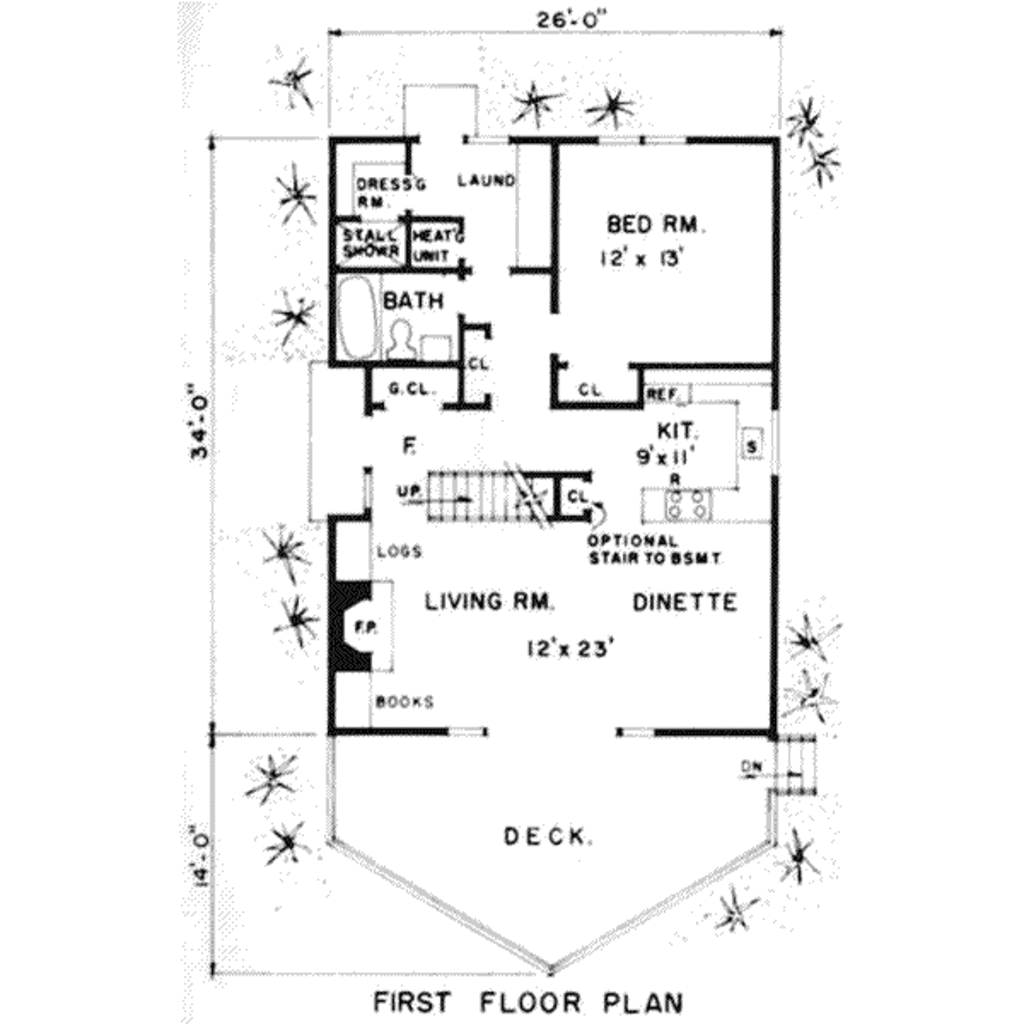large_sink: (387, 312, 423, 362)
stairs: (423, 451, 607, 538), (761, 724, 844, 808)
tub: (338, 271, 379, 360)
window: (599, 120, 692, 147)
